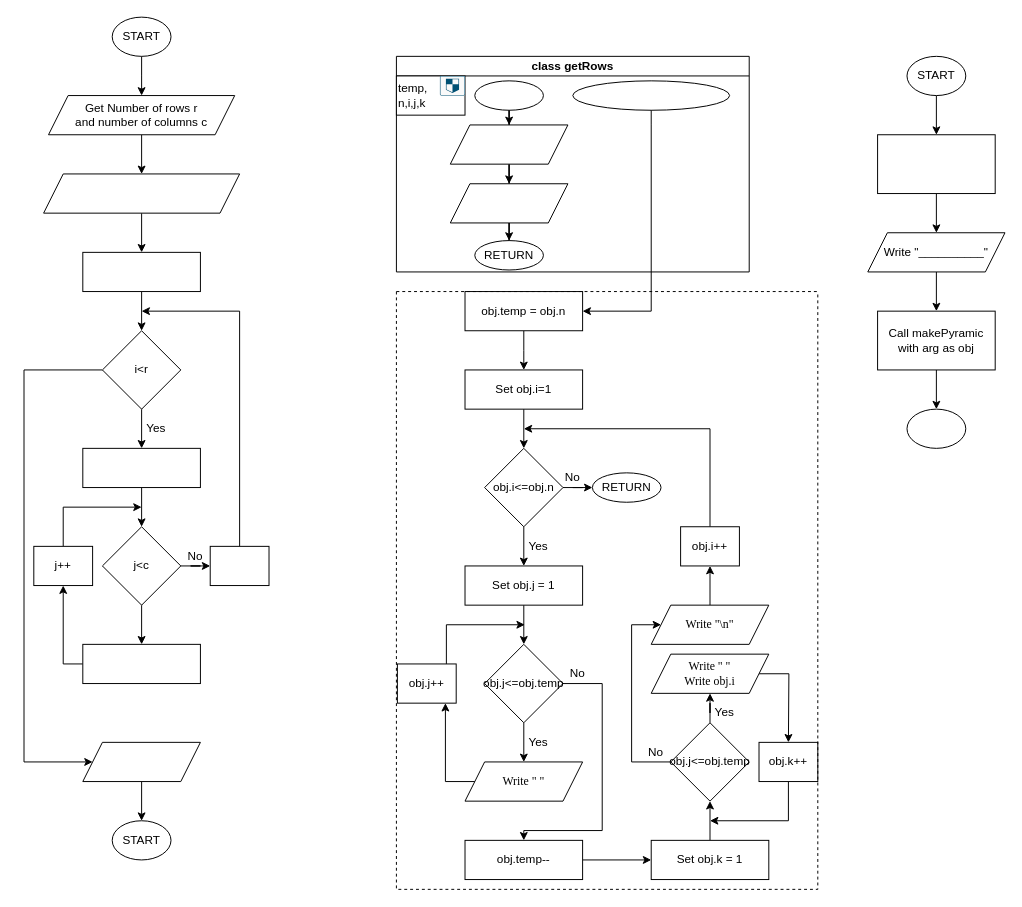
The diagram is 1022 pixels wide and 907 high, and some of its shapes have lost their labels. The shapes that lost their labels are listed below. From the top down, each one's centre as x and y in pixels, then its label:
[508,95]: getRows()
[651,95]: makePyramid(getRows obj)
[508,144]: Write "Enter Number of rows"
[936,164]: Create instance of class getRows as obj
[141,193]: Read Matrix 1 to m1[50][50] and Matrix 2 to m2[50][50]
[508,203]: save number of rows to n
[141,271]: Set i=0
[936,428]: STOP
[141,467]: Set j=0
[239,565]: i++
[606,590]: Friend Function
[141,663]: addition[i][j] = m1[i][j] + m2[i][j]
[141,761]: Write Matrix Addition
